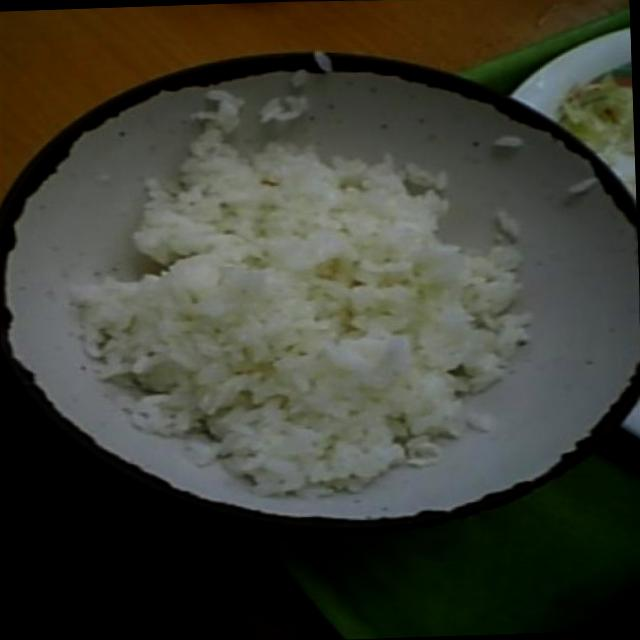Rice: (87, 126, 540, 490)
